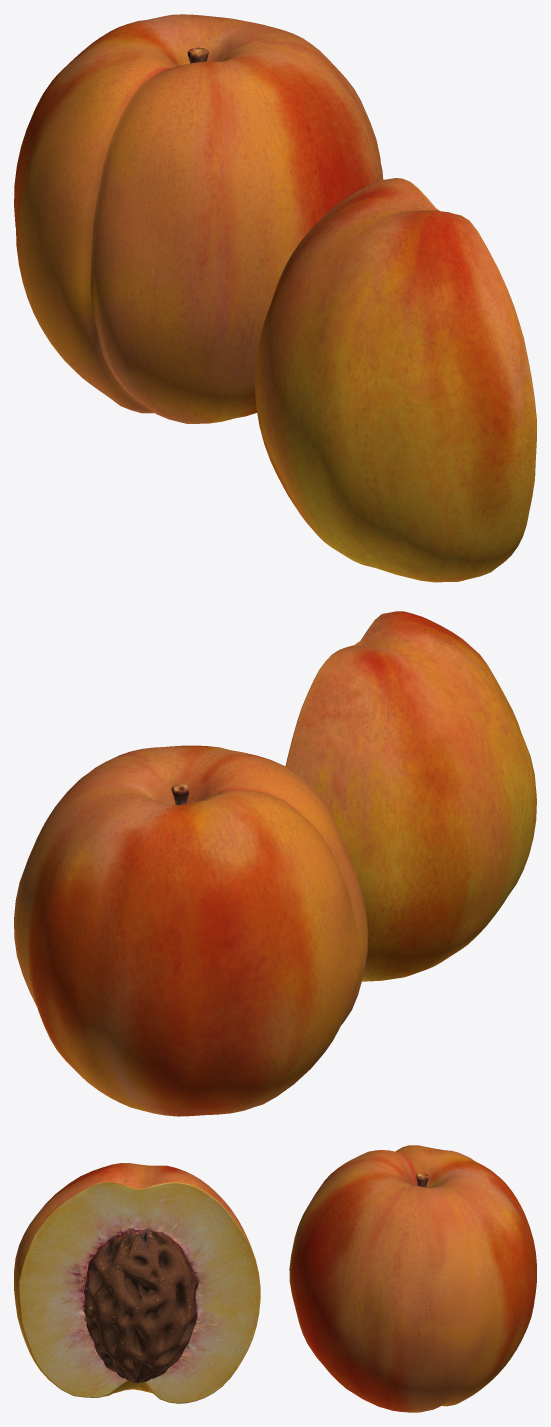
File: peach.fbx
The picture shows the model from 3 angles, top to bottom: view 1: azimuth 30°, elevation 25°; view 2: azimuth 150°, elevation 25°; view 3: azimuth 270°, elevation 25°; orthographic projection. The views are drawn at different scales.
Visible parts, largest first — view 1: peach, peach_cut; view 2: peach, peach_cut; view 3: peach, peach_cut.
Part boxes in pixels (left/top/right/bottom): peach: left=14, top=14, right=383, bottom=423; peach_cut: left=255, top=178, right=536, bottom=582; peach: left=14, top=745, right=368, bottom=1116; peach_cut: left=285, top=611, right=536, bottom=981; peach: left=289, top=1145, right=536, bottom=1412; peach_cut: left=14, top=1163, right=260, bottom=1403.
Bounding box in the file's own units: 8.29 × 8.72 × 17.83.
